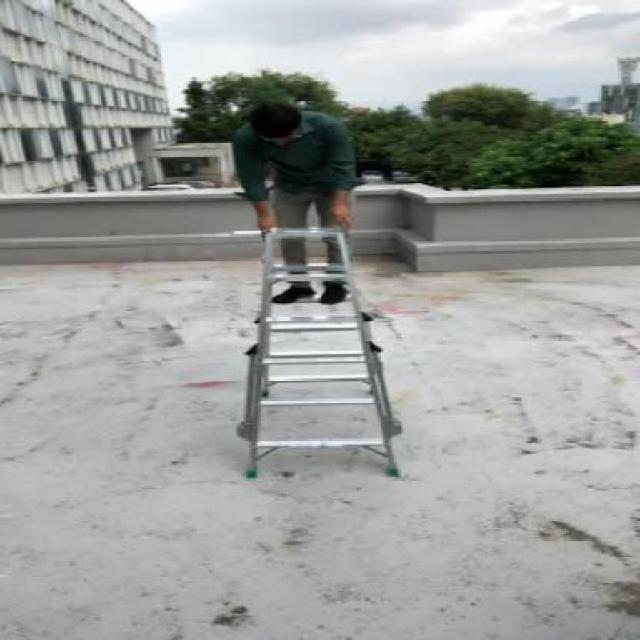hard hat: (224, 231, 420, 485)
vest: (217, 91, 371, 316)
